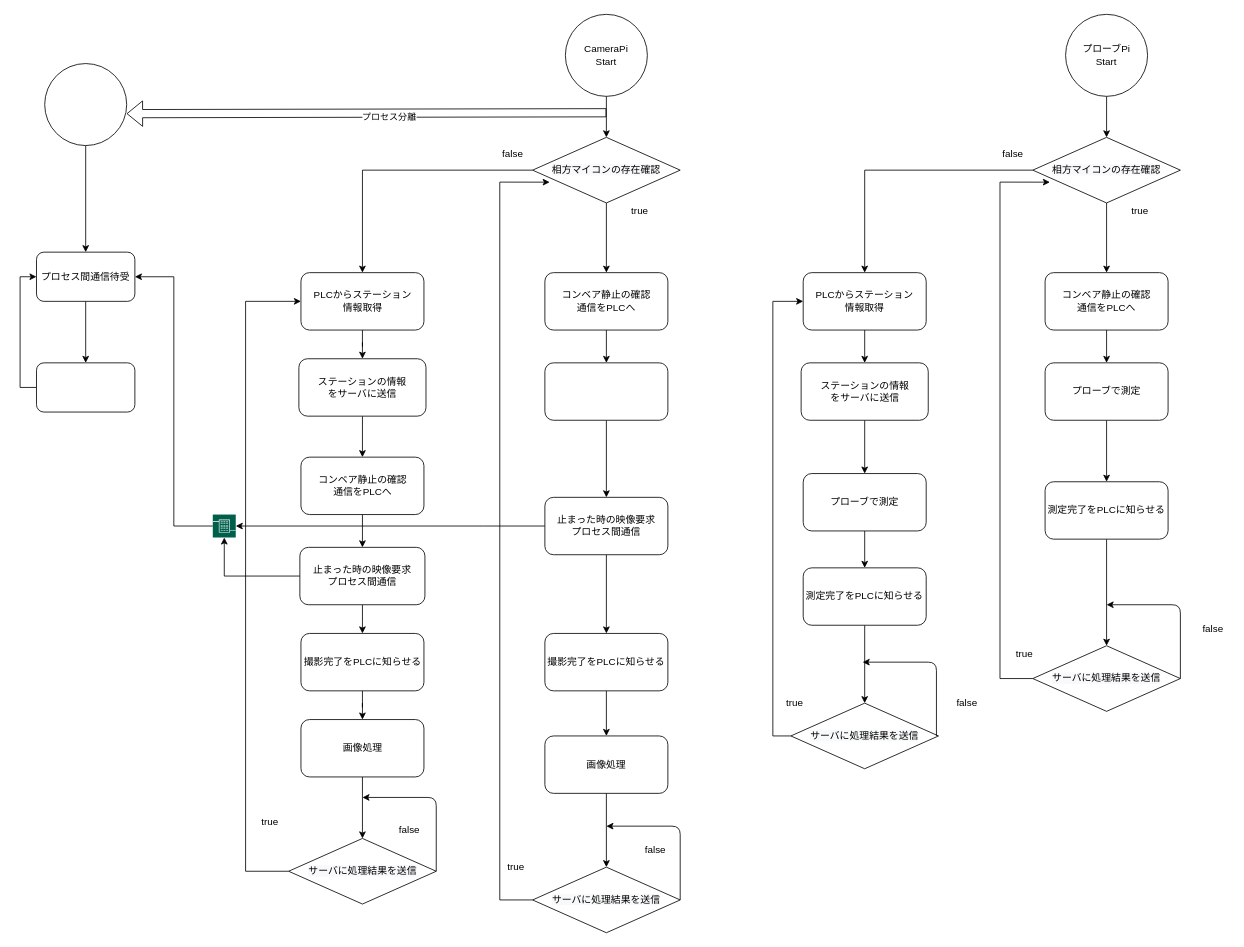
Some shapes in this 1244 by 947 pixel diagram are drawn without their labels. The box of each missing label's shape, as (x1, y1, x2, y2) in pixels:
VideoOutputPi: (44, 63, 127, 146)
カメラリアルタイム撮影: (36, 362, 135, 412)
カメラ撮影: (544, 362, 668, 420)
